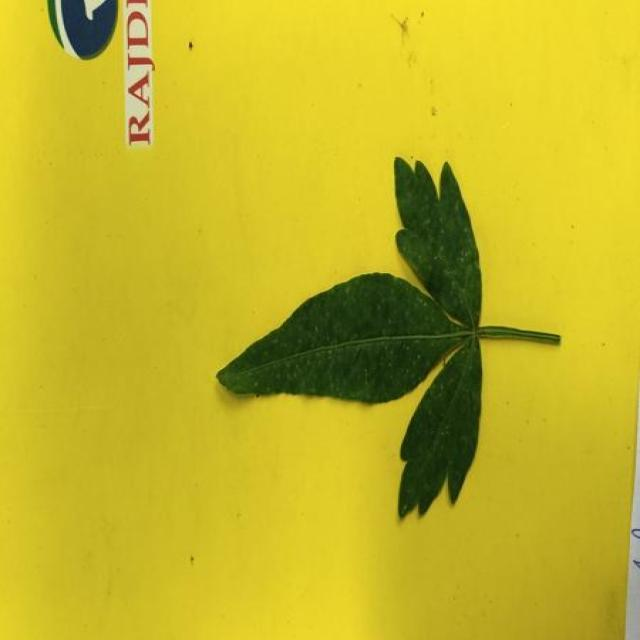balloon_Vine: (218, 158, 560, 517)
